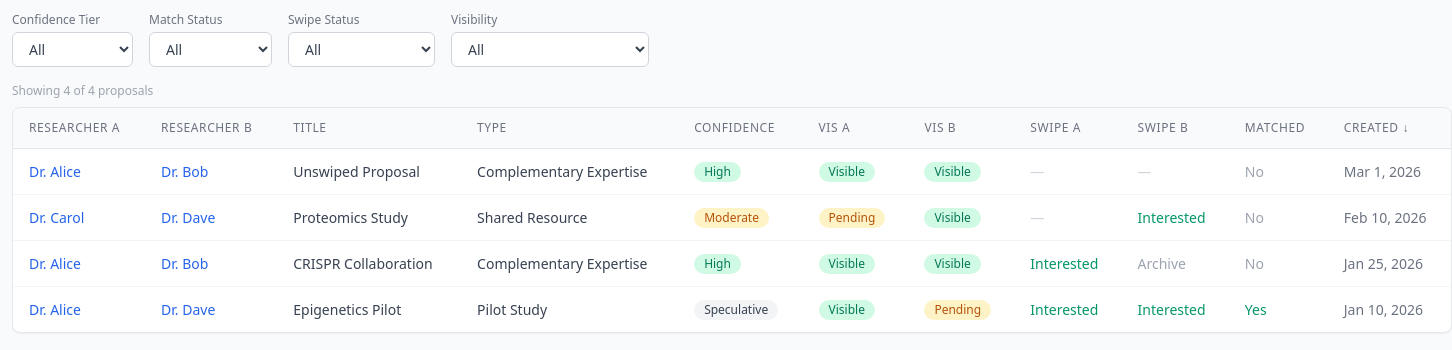
ProposalsTable › filters by swipe status (neither_swiped)
The image size is (1452, 350).
Select "Neither Swiped" in the dropdown labelled "Swipe Status" at [362, 50], box [288,32,435,67]
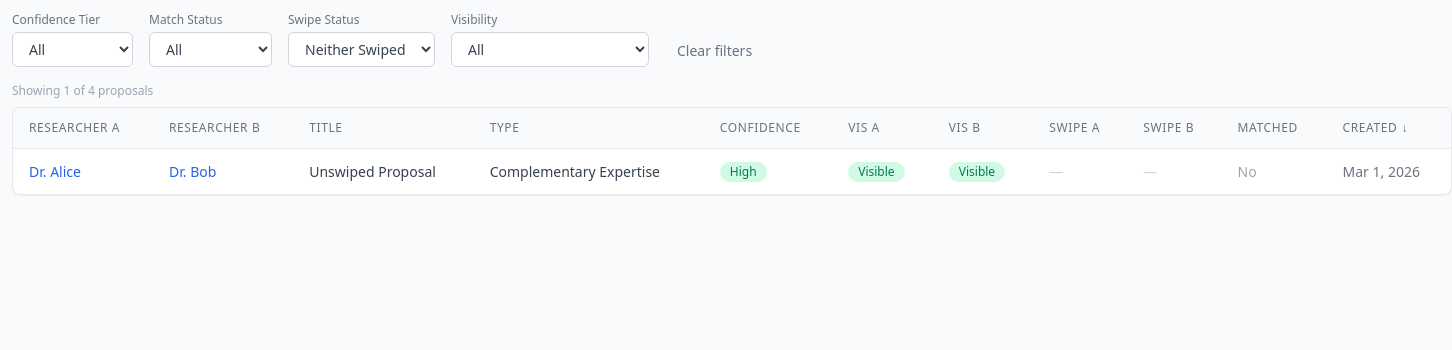
Check: the text "CRISPR Collaboration" is gone
Check: the text "Proteomics Study" is gone
Check: the text "Epigenetics Pilot" is gone
